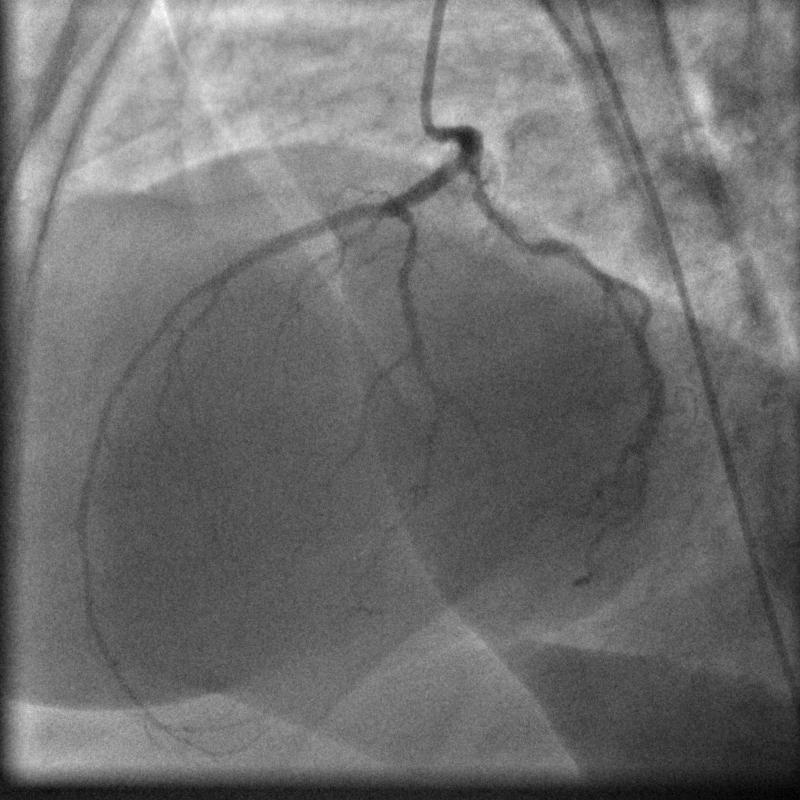Stenosis: (511, 218, 548, 269)
